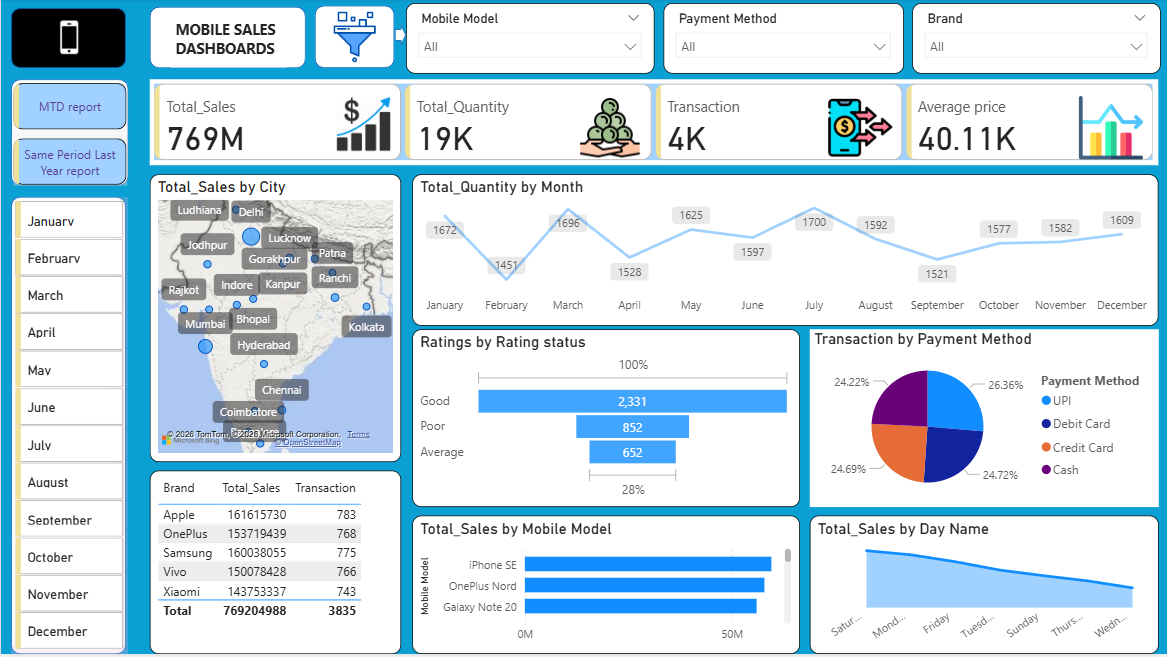

Layout of this report page (visuals, bound fields, positions):
{"tool":"powerbi","page":{"name":"DASHBOARD","canvas":[1280,720],"ordinal":0},"visuals":[{"type":"shape","box":[11,11,126.2,65.9],"z":0},{"type":"shape","box":[11,89.2,129,116.6],"z":1000},{"type":"shape","box":[11,218.2,126.2,502.2],"z":2000},{"type":"image","box":[39.8,9.6,70,67.2],"z":3000},{"type":"advancedSlicerVisual","fields":{"Values":["Custom_Calendar.Date.Variation.Date Hierarchy.Month"]},"box":[11,218.2,129,502.2],"z":4000},{"type":"cardVisual","fields":{"Data":["Sales_data.Total_Sales","Sales_data.Total_Quantity","Custom_Calendar.Transaction","Sales_data.Average price"]},"box":[163.3,89.2,1107.4,94.7],"z":5000},{"type":"slicer","fields":{"Values":["Sales_data.Mobile Model"]},"box":[445,5,272.5,77.5],"z":6000},{"type":"slicer","fields":{"Values":["Sales_data.Payment Method"]},"box":[727.5,5,263.8,77.5],"z":7000},{"type":"slicer","fields":{"Values":["Sales_data.Brand"]},"box":[1000,5,272.5,77.5],"z":8000},{"type":"shape","box":[345,8.8,87.5,68.8],"z":9000},{"type":"image","box":[313.8,10,148.8,66.2],"z":10000},{"type":"shape","box":[432.5,27.5,12.5,26.2],"z":11000},{"type":"shape","box":[163.8,10,171.2,67.5],"z":12000},{"type":"textbox","box":[186.2,17.5,127.5,58.8],"z":13000},{"type":"lineChart","fields":{"Y":["Sales_data.Total_Quantity"],"Category":["Custom_Calendar.Date.Variation.Date Hierarchy.Month"]},"box":[451.5,193.5,819.2,166],"z":14000},{"type":"funnel","title":" Ratings by Rating status","fields":{"Y":["CountNonNull(Sales_data.Customer Ratings)"],"Category":["Sales_data.Rating status"]},"box":[451.5,363.6,425.4,194.9],"z":15000},{"type":"pieChart","fields":{"Y":["Custom_Calendar.Transaction"],"Category":["Sales_data.Payment Method"]},"box":[887.8,363.6,382.8,194.9],"z":16000},{"type":"clusteredBarChart","fields":{"Y":["Sales_data.Total_Sales"],"Category":["Sales_data.Mobile Model"]},"box":[451.5,568.1,425.4,152.3],"z":17000},{"type":"areaChart","fields":{"Y":["Sales_data.Total_Sales"],"Category":["Custom_Calendar.Day Name"]},"box":[887.8,568.1,382.8,152.3],"z":18000},{"type":"tableEx","fields":{"Values":["Sales_data.Brand","Sales_data.Total_Sales","Custom_Calendar.Transaction"]},"box":[163.3,518.7,275.8,201.7],"z":19000},{"type":"pageNavigator","box":[13.7,93.3,124.9,112.5],"z":20000},{"type":"map","fields":{"Category":["Sales_data.City"],"Size":["Sales_data.Total_Sales"]},"box":[163.3,193.5,275.8,315.6],"z":21000}]}

Visuals, with their boxes in screenshot pixels (x1, y1, x2, y2), scaled from the page's 1280x720 canvas onto the 1167x657 screenshot:
shape: 10, 10, 125, 70
shape: 10, 81, 128, 188
shape: 10, 199, 125, 656
image: 36, 9, 100, 70
advancedSlicerVisual - Custom_Calendar.Date.Variation.Date Hierarchy.Month: 10, 199, 128, 656
cardVisual - Sales_data.Total_Sales x Sales_data.Total_Quantity: 149, 81, 1159, 168
slicer - Sales_data.Mobile Model: 406, 5, 654, 75
slicer - Sales_data.Payment Method: 663, 5, 904, 75
slicer - Sales_data.Brand: 912, 5, 1160, 75
shape: 315, 8, 394, 71
image: 286, 9, 422, 70
shape: 394, 25, 406, 49
shape: 149, 9, 305, 71
textbox: 170, 16, 286, 70
lineChart - Sales_data.Total_Quantity x Custom_Calendar.Date.Variation.Date Hierarchy.Month: 412, 177, 1159, 328
" Ratings by Rating status" funnel: 412, 332, 799, 510
pieChart - Custom_Calendar.Transaction x Sales_data.Payment Method: 809, 332, 1158, 510
clusteredBarChart - Sales_data.Total_Sales x Sales_data.Mobile Model: 412, 518, 799, 656
areaChart - Sales_data.Total_Sales x Custom_Calendar.Day Name: 809, 518, 1158, 656
tableEx - Sales_data.Brand x Sales_data.Total_Sales: 149, 473, 400, 656
pageNavigator: 12, 85, 126, 188
map - Sales_data.City x Sales_data.Total_Sales: 149, 177, 400, 465
